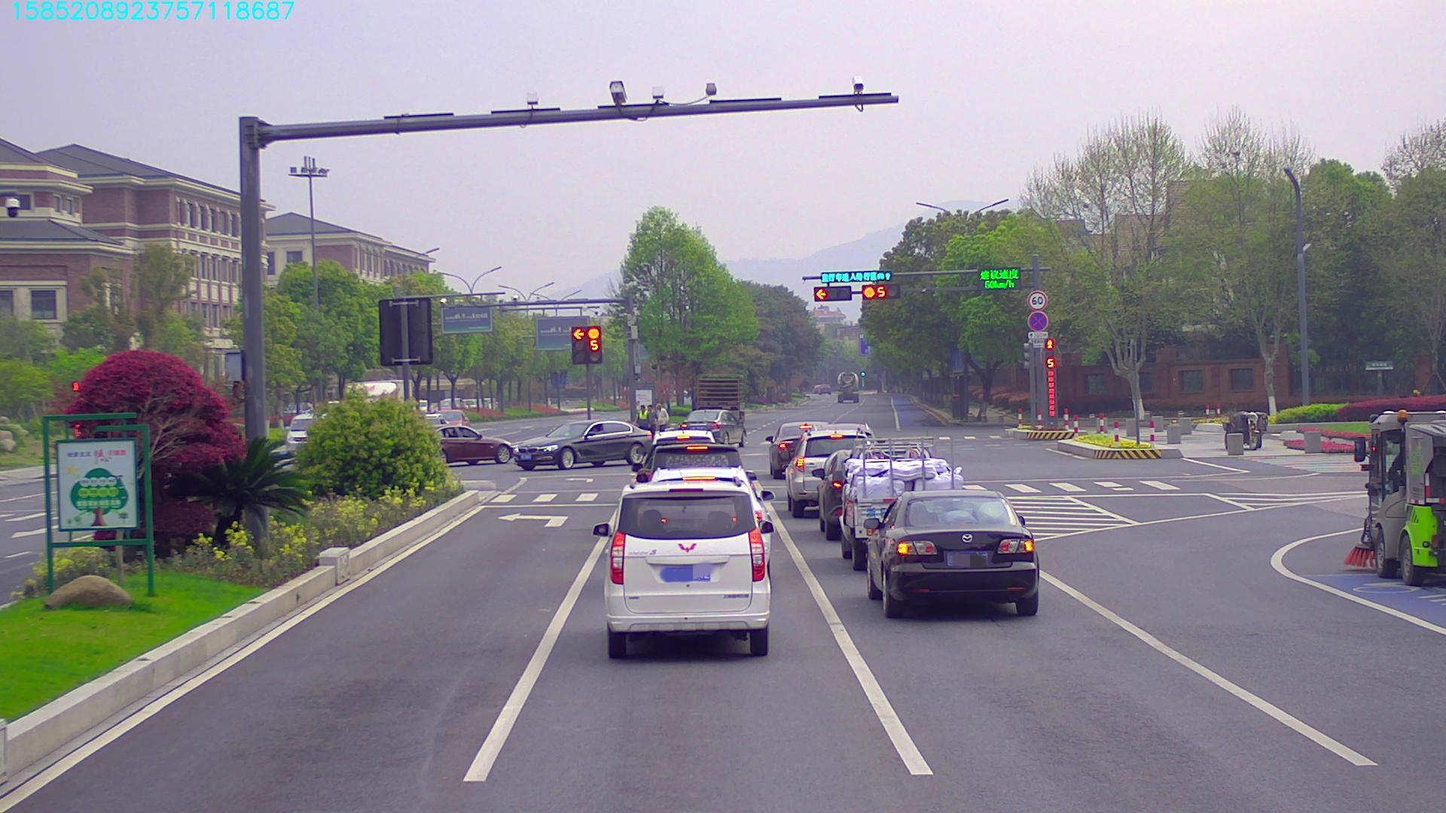red: (813, 285, 857, 301), (860, 286, 899, 299)
wait_on: (820, 269, 895, 282)
